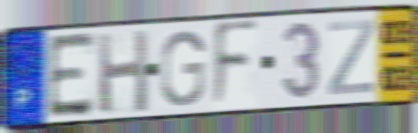3: (279, 18, 321, 103)
E: (46, 29, 97, 122)
F: (210, 16, 261, 114)
G: (158, 28, 207, 108)
H: (96, 26, 151, 116)
Z: (325, 17, 378, 98)
